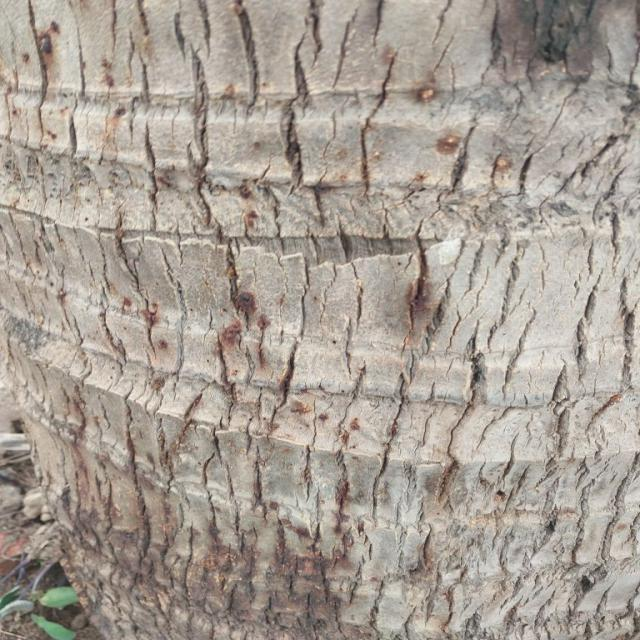stembleeding: (198, 287, 304, 364), (400, 266, 473, 348)
